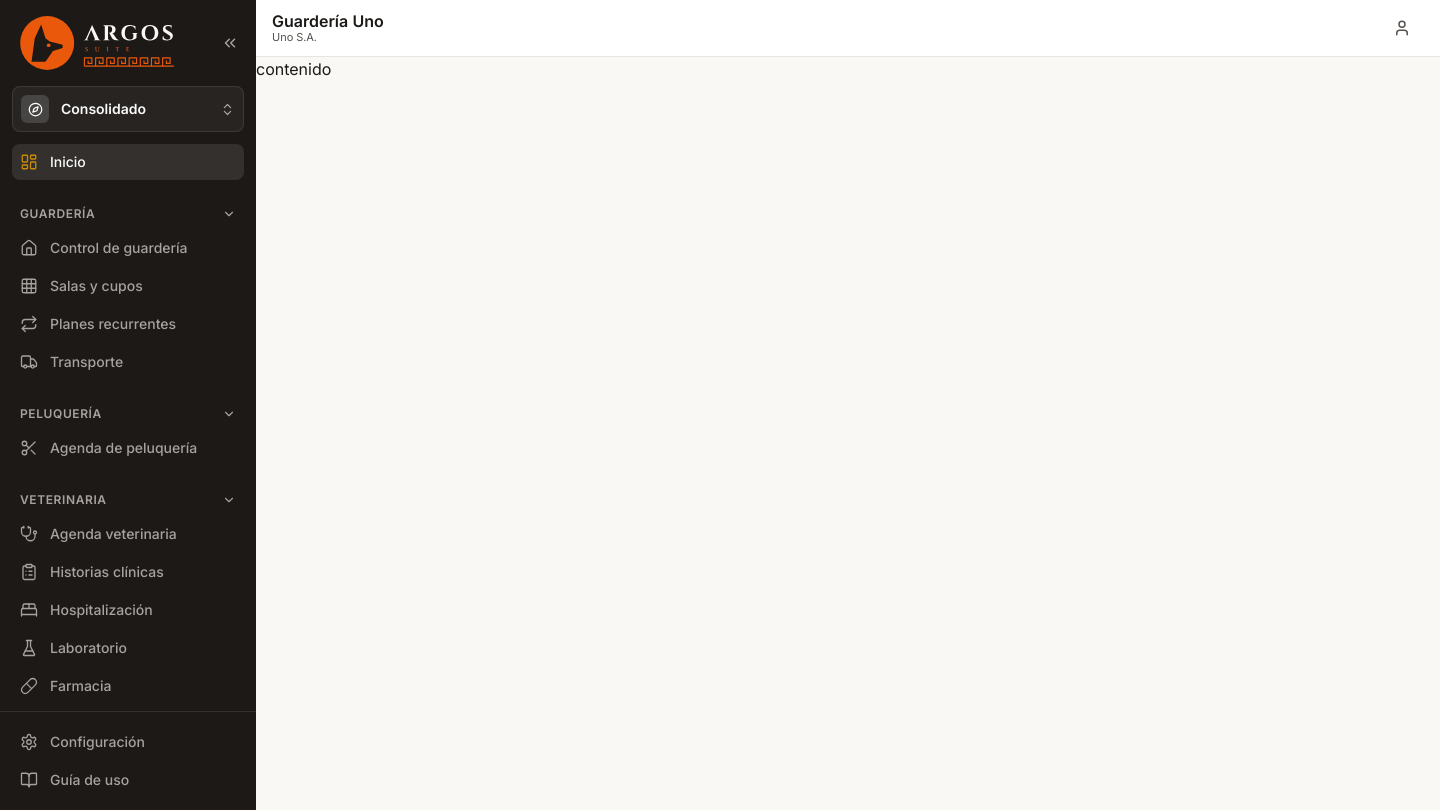
Scenario: user menu › shows the console entry only to the vendor
Click the button named "Menú de usuario".
click(1402, 28)  # box [1380,6,1424,50]
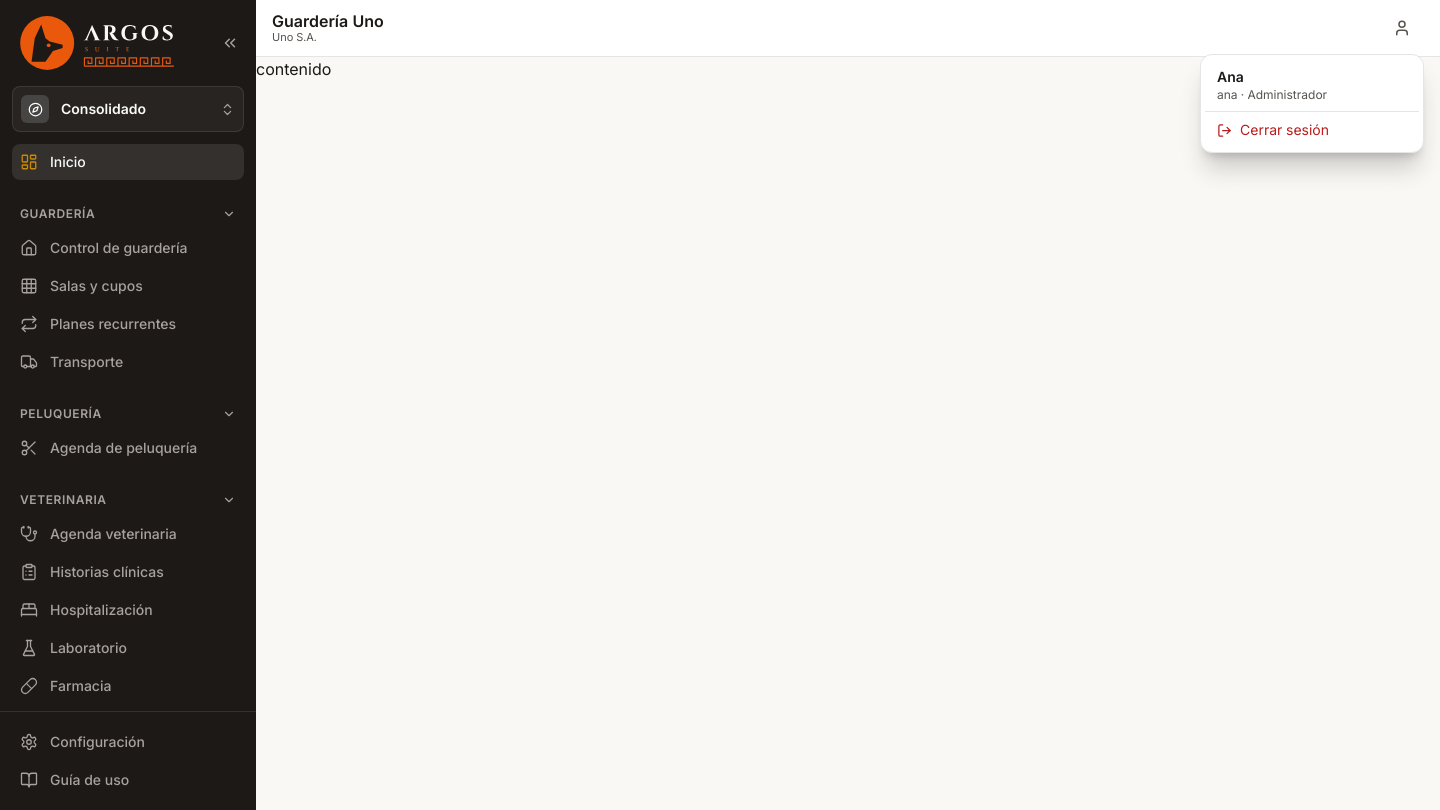
expect the menu item "Cerrar sesión" is shown: met, box [1205,112,1419,148]
